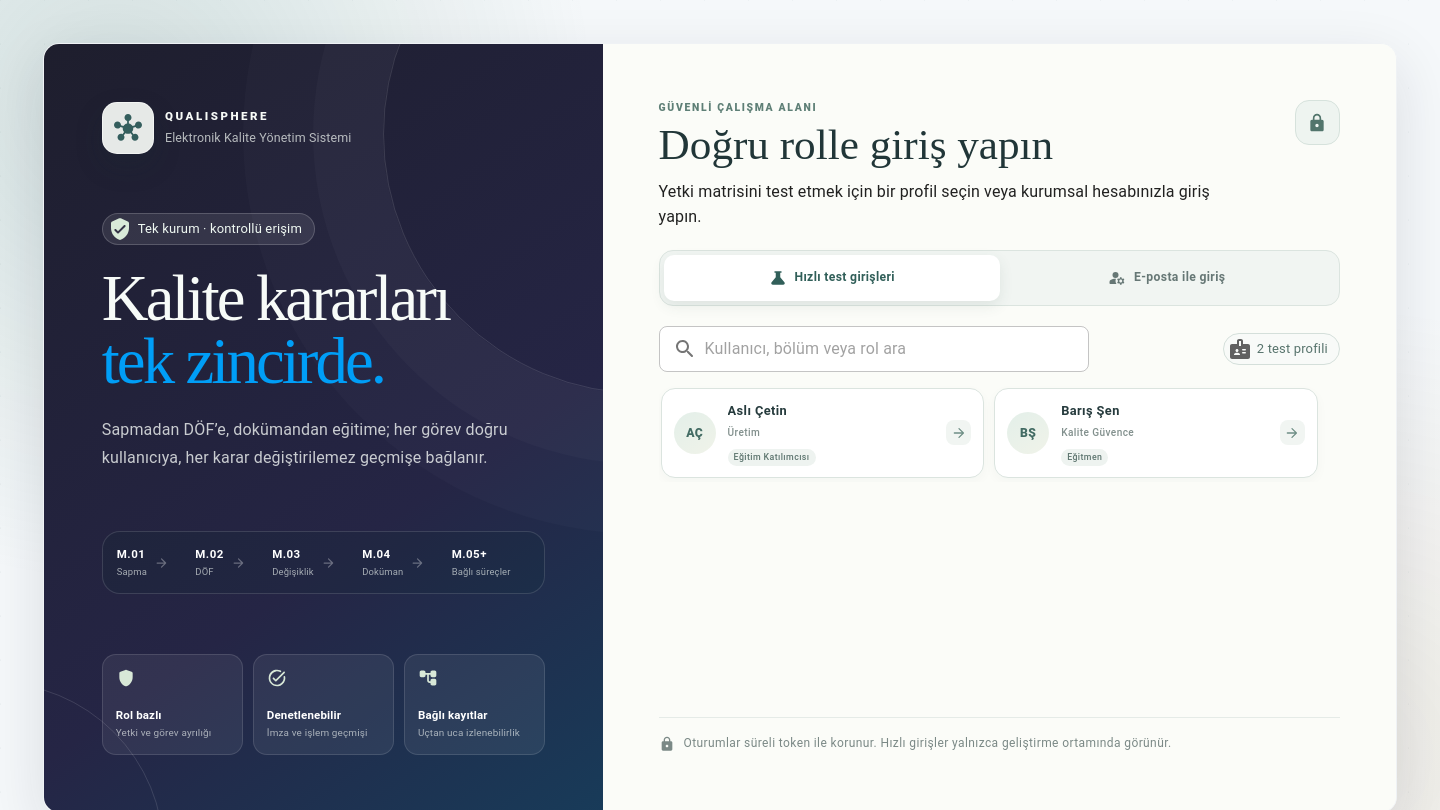
Test: LoginPage › shows role-aware quick profiles and filters them
Expected: the button "AÇ Aslı Çetin Üretim Eğitim Katılımcısı" is shown, [661,388,984,478]
Expected: the button "Barış Şen" is shown, [994,388,1318,478]
Type "eğitmen" into the field named "Hızlı giriş profillerinde ara" at point(897, 349), box [705,329,1089,369]
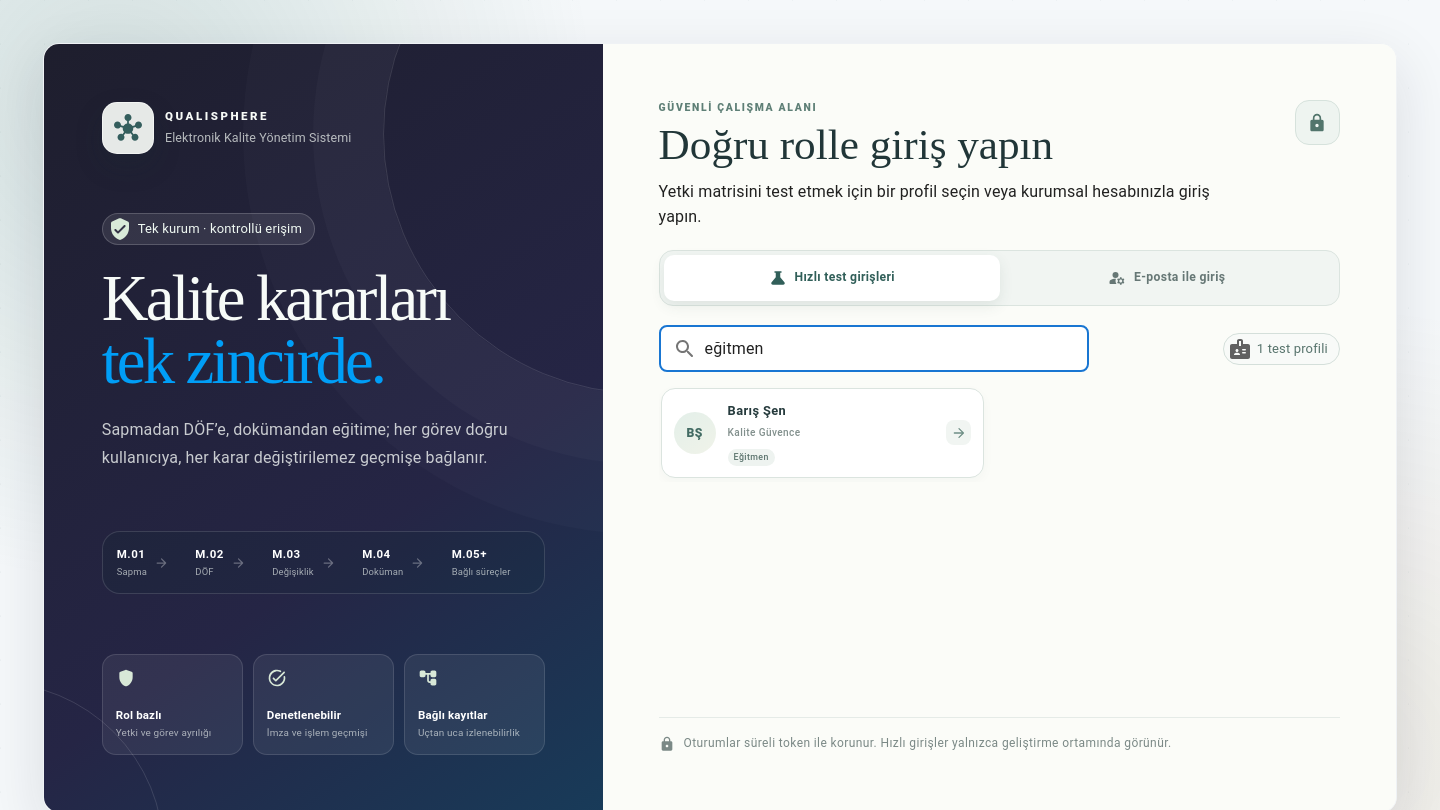
Expected: the button "Barış Şen" is shown, [661,388,984,478]
Now the button "Aslı Çetin" is gone
Now the text "1 test profili" is shown, box [1257,341,1328,356]
